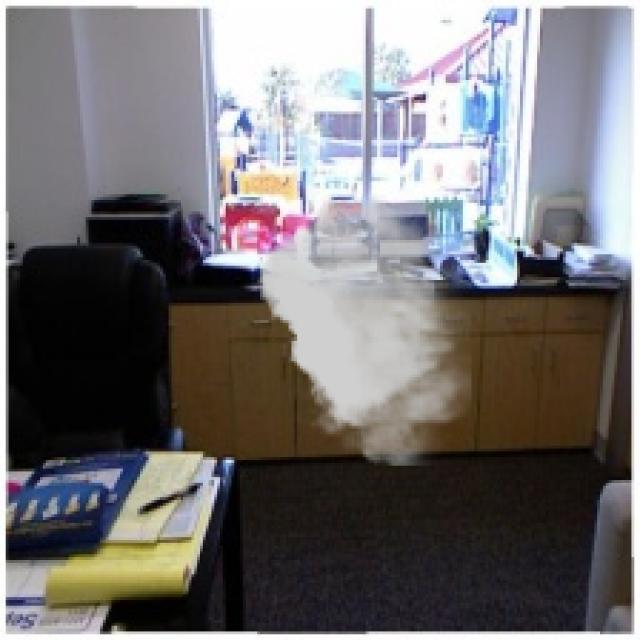Smoke: (259, 194, 472, 466)
